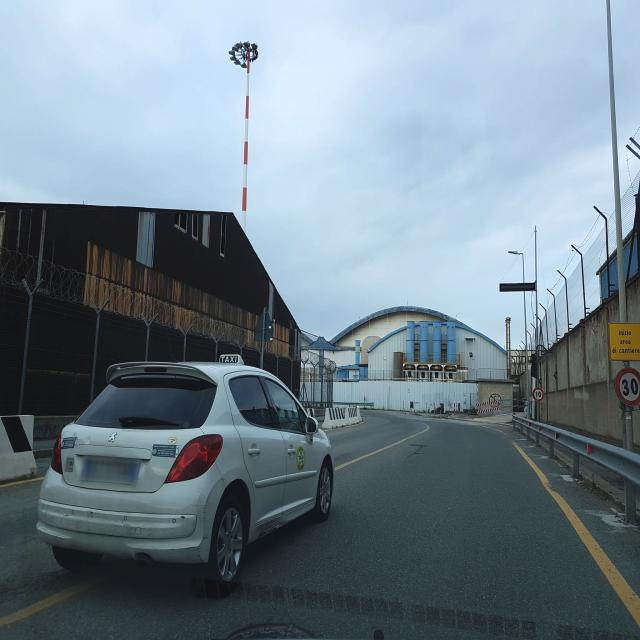car: (36, 358, 335, 592)
